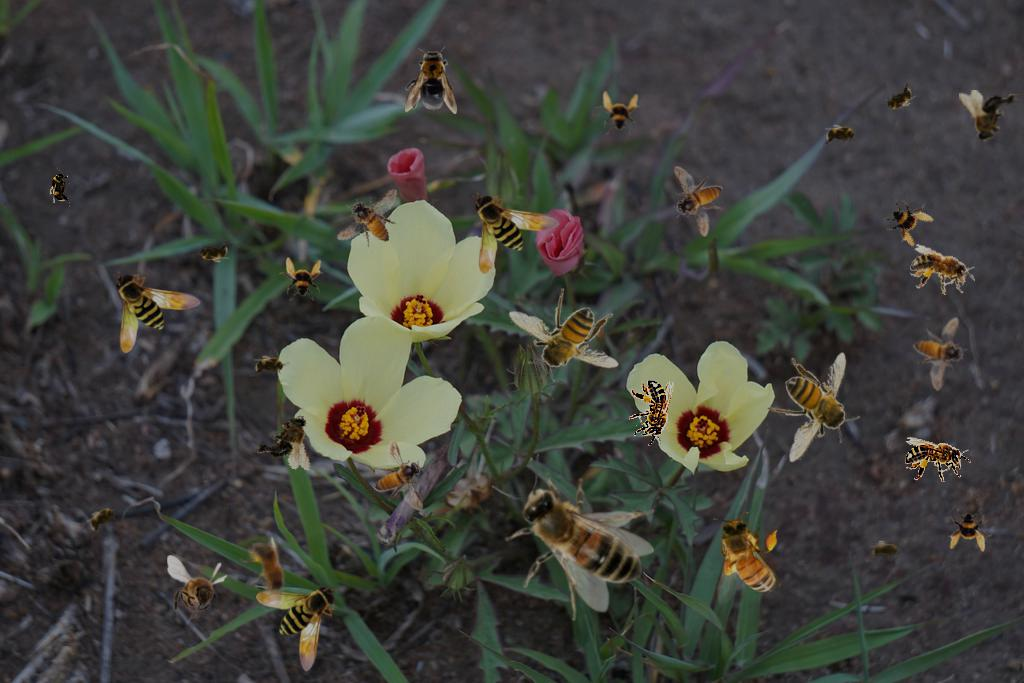Bee: (492, 454, 654, 621), (766, 352, 860, 463), (508, 288, 619, 382), (899, 306, 983, 393), (113, 271, 201, 353), (472, 192, 560, 274), (256, 584, 338, 672), (713, 512, 781, 605), (327, 187, 411, 256), (249, 403, 326, 475), (232, 532, 302, 611), (167, 555, 228, 625), (906, 243, 980, 300), (877, 189, 939, 251), (374, 440, 424, 511), (673, 166, 723, 237), (405, 46, 457, 114), (959, 90, 1021, 143), (629, 380, 674, 446), (905, 437, 971, 482), (948, 508, 992, 552), (596, 91, 640, 135), (279, 257, 323, 301), (80, 499, 126, 539), (876, 79, 922, 119), (866, 540, 906, 562), (821, 124, 861, 146), (49, 167, 71, 207), (250, 355, 290, 377), (193, 241, 233, 263)
